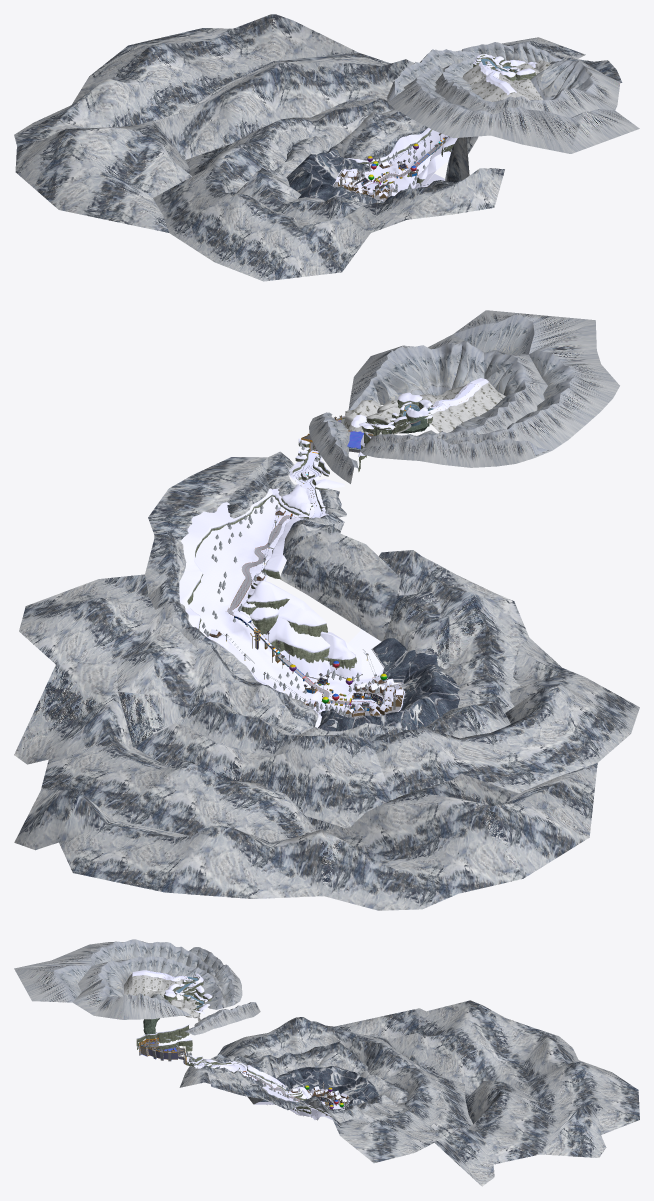
File: track9.glb
3 views of the same model, one above another, from view 1: azimuth 30°, elevation 25°; view 2: azimuth 150°, elevation 25°; view 3: azimuth 270°, elevation 25° (orthographic). The views are drawn at different scales.
Parts seen in each view (by area): view 1: BackGroundA_01__sn_mountain01_107, top_mine_001__sn_mountain_Top_4, polySurface8364413__sn_mountain03_19, CAVE_Mount_SideL__sn_snowRoof01_105, MLsnow_02__sn_snowRoof01_depthOUT_79, CAVE_Mount__sn_rockSnow02_103, CAVE_Mount_Wall_001__sn_rockWall03_104, TreeSnow_lod_01000__TreeSnow_Leaf_63; view 2: BackGroundA_01__sn_mountain01_107, top_mine_001__sn_mountain_Top_4, CAVE_Mount_SideL__sn_snowRoof01_105, polySurface8364413__sn_mountain03_19, MLsnow_02__sn_snowRoof01_depthOUT_79, CAVE_Mount_Wall_001__sn_rockWall03_104, CAVE_Mount__sn_rockSnow02_103, TreeSnow_lod_01000__TreeSnow_Leaf_63, polySurface8364587_1__sn_snowroad04s_14; view 3: BackGroundA_01__sn_mountain01_107, top_mine_001__sn_mountain_Top_4, polySurface8364413__sn_mountain03_19, CAVE_Mount_SideL__sn_snowRoof01_105, CAVE_Mount_Wall_001__sn_rockWall03_104, CAVE_Mount__sn_rockSnow02_103, MLsnow_02__sn_snowRoof01_depthOUT_79, DAM_Exit_Road__sn_damWall01_87.
Boxes of the visible parts, x1=… form: BackGroundA_01__sn_mountain01_107: x1=14, y1=14, x2=622, y2=281; top_mine_001__sn_mountain_Top_4: x1=387, y1=42, x2=639, y2=153; polySurface8364413__sn_mountain03_19: x1=286, y1=148, x2=394, y2=204; CAVE_Mount_SideL__sn_snowRoof01_105: x1=342, y1=54, x2=519, y2=196; MLsnow_02__sn_snowRoof01_depthOUT_79: x1=333, y1=56, x2=537, y2=201; CAVE_Mount__sn_rockSnow02_103: x1=462, y1=63, x2=543, y2=101; CAVE_Mount_Wall_001__sn_rockWall03_104: x1=357, y1=55, x2=535, y2=183; TreeSnow_lod_01000__TreeSnow_Leaf_63: x1=341, y1=131, x2=430, y2=198; BackGroundA_01__sn_mountain01_107: x1=14, y1=451, x2=639, y2=910; top_mine_001__sn_mountain_Top_4: x1=309, y1=310, x2=619, y2=483; CAVE_Mount_SideL__sn_snowRoof01_105: x1=189, y1=402, x2=432, y2=717; polySurface8364413__sn_mountain03_19: x1=318, y1=638, x2=459, y2=731; MLsnow_02__sn_snowRoof01_depthOUT_79: x1=179, y1=392, x2=432, y2=727; CAVE_Mount_Wall_001__sn_rockWall03_104: x1=187, y1=399, x2=432, y2=723; CAVE_Mount__sn_rockSnow02_103: x1=360, y1=382, x2=505, y2=435; TreeSnow_lod_01000__TreeSnow_Leaf_63: x1=201, y1=440, x2=385, y2=717; polySurface8364587_1__sn_snowroad04s_14: x1=227, y1=516, x2=349, y2=704; BackGroundA_01__sn_mountain01_107: x1=179, y1=1000, x2=639, y2=1186; top_mine_001__sn_mountain_Top_4: x1=14, y1=939, x2=260, y2=1035; polySurface8364413__sn_mountain03_19: x1=260, y1=1066, x2=378, y2=1108; CAVE_Mount_SideL__sn_snowRoof01_105: x1=175, y1=973, x2=350, y2=1120; CAVE_Mount_Wall_001__sn_rockWall03_104: x1=136, y1=974, x2=331, y2=1117; CAVE_Mount__sn_rockSnow02_103: x1=124, y1=973, x2=202, y2=1018; MLsnow_02__sn_snowRoof01_depthOUT_79: x1=136, y1=984, x2=353, y2=1110; DAM_Exit_Road__sn_damWall01_87: x1=139, y1=1038, x2=348, y2=1105.
Size of what is drawn, in the model's own units: 1170 by 506 by 1635.
84 materials, 83 textured.
